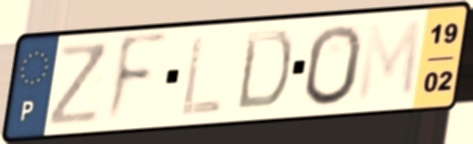D: (232, 28, 295, 113)
F: (101, 29, 172, 131)
L: (177, 31, 226, 119)
M: (354, 17, 425, 105)
O: (302, 22, 366, 109)
Z: (46, 39, 110, 129)
